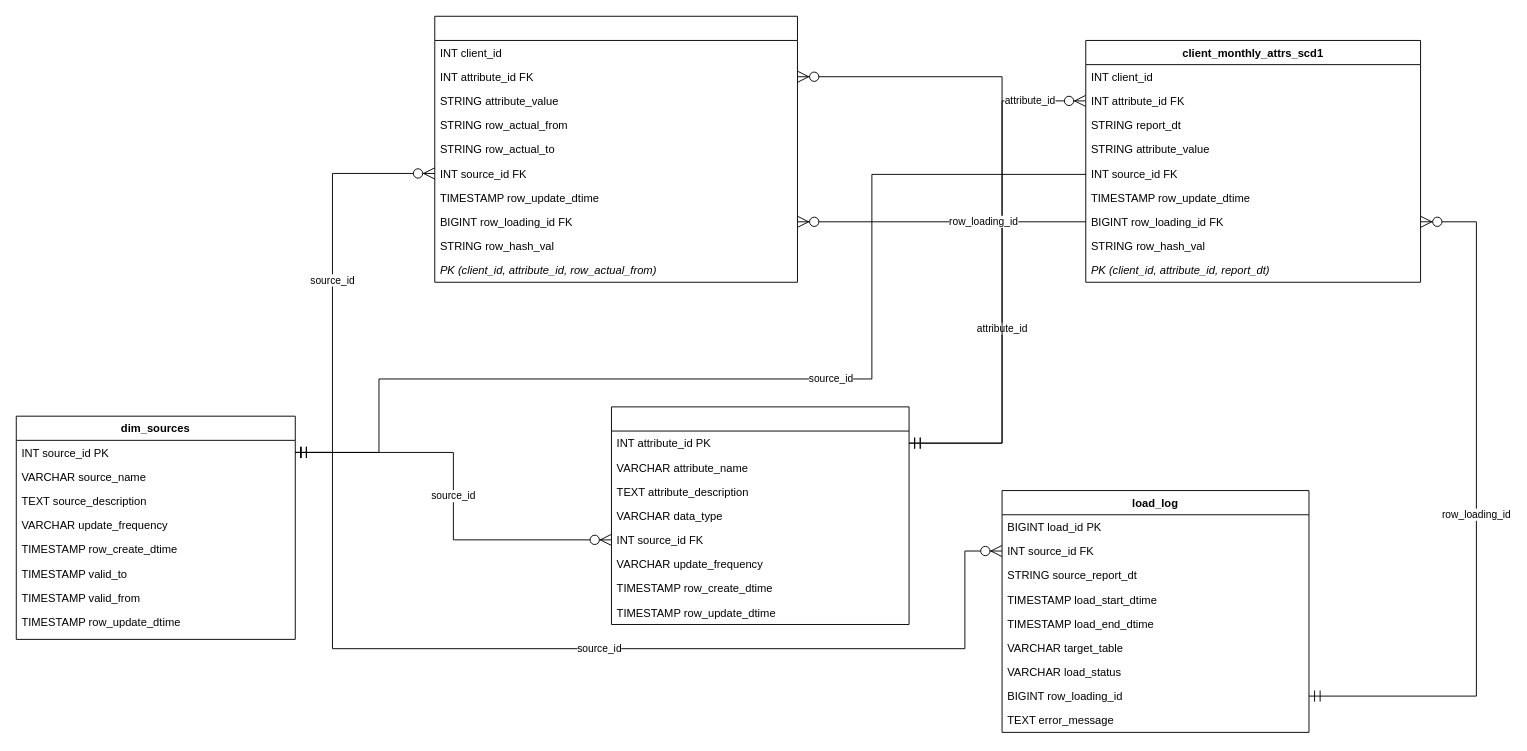
This 1527x751 diagram has some shape labels left out. Each missing label, with the box of its shape:
client_daily_attrs_scd2: (434, 15, 797, 282)
dim_attributes: (611, 406, 909, 624)
